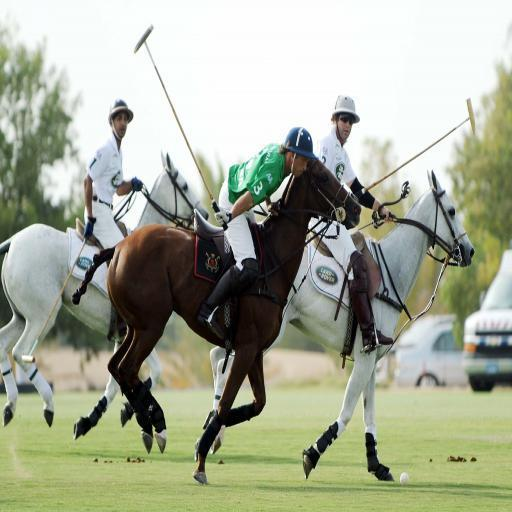horse: (72, 152, 362, 488), (210, 171, 476, 481), (0, 153, 208, 444)
